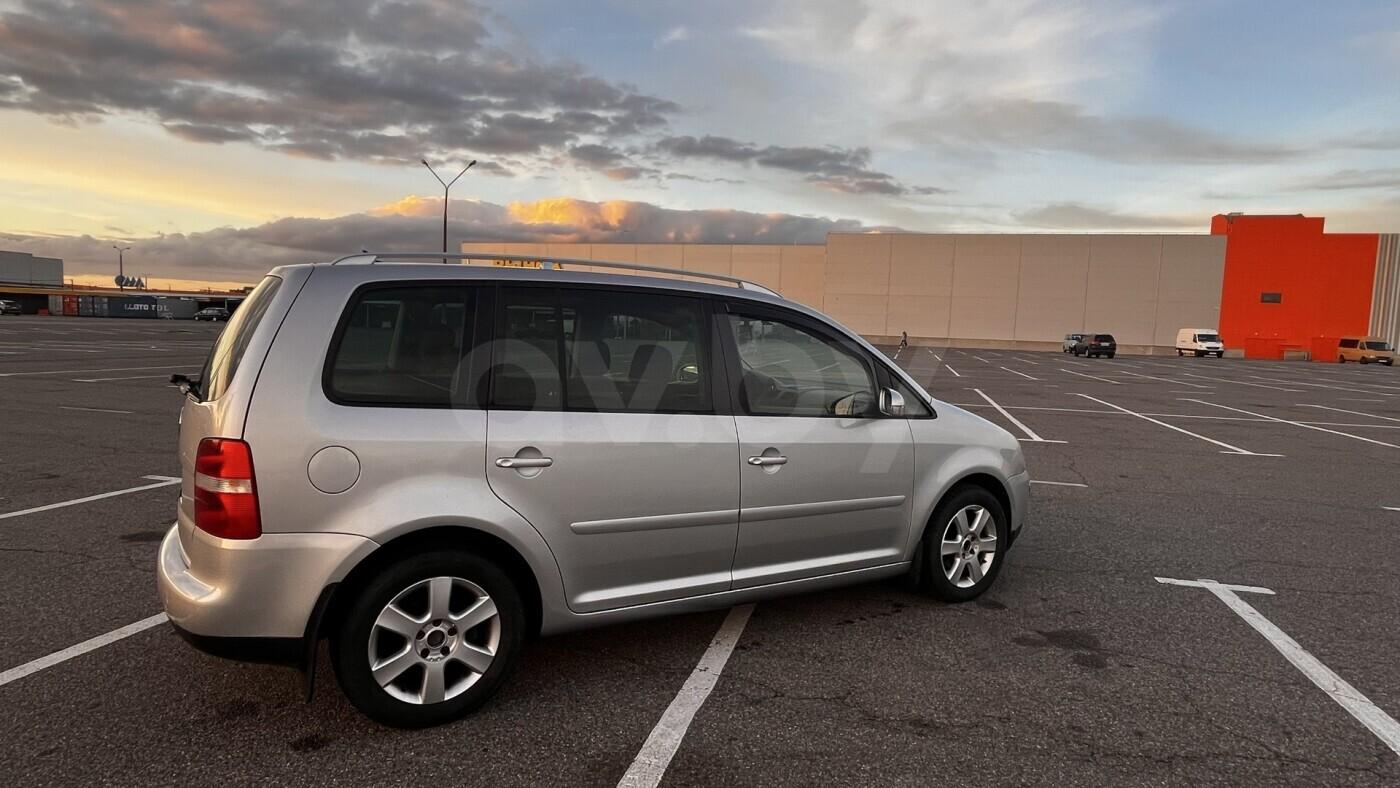Touran_2003-2006: (156, 256, 1033, 730)
